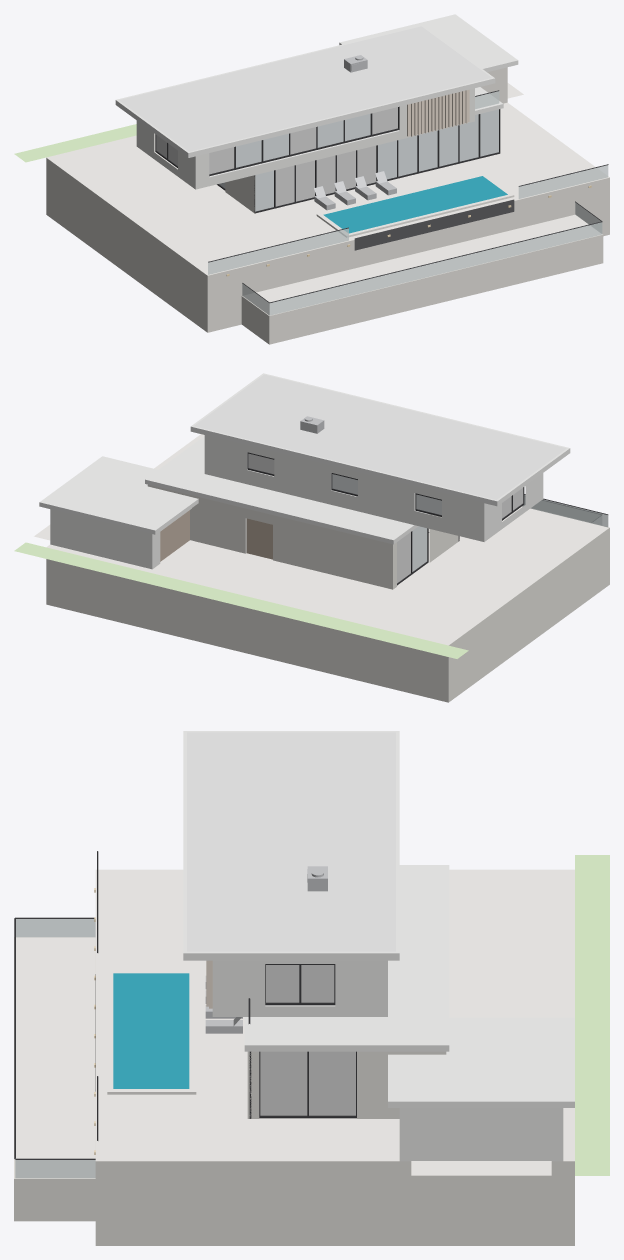
Rendered from mansion_w130b.glb.
3 renders of one model, top to bottom at view 1: azimuth 30°, elevation 25°; view 2: azimuth 150°, elevation 25°; view 3: azimuth 270°, elevation 25°, orthographic. The views are drawn at different scales.
Parts seen in each view (by area): view 1: mansion_w130b_Site, mansion_w130b_Walls2, mansion_w130b_Roof, mansion_w130b_Clear, mansion_w130b_Glass, mansion_w130b_Trim, mansion_w130b_WindowsLit, mansion_w130b_Water, mansion_w130b_Walls, mansion_w130b_Frames, mansion_w130b_Walls3, mansion_w130b_Accent (+2 smaller); view 2: mansion_w130b_Walls2, mansion_w130b_Site, mansion_w130b_Roof, mansion_w130b_Trim, mansion_w130b_Walls, mansion_w130b_Lawn, mansion_w130b_Doors, mansion_w130b_Glass, mansion_w130b_WindowsLit, mansion_w130b_Clear, mansion_w130b_Frames; view 3: mansion_w130b_Site, mansion_w130b_Walls2, mansion_w130b_Roof, mansion_w130b_Trim, mansion_w130b_Walls, mansion_w130b_Lawn, mansion_w130b_Water, mansion_w130b_WindowsLit, mansion_w130b_Clear, mansion_w130b_Frames, mansion_w130b_Details.
Boxes of the visible parts, x1=… form: mansion_w130b_Site: x1=46, y1=83, x2=609, y2=314; mansion_w130b_Walls2: x1=46, y1=67, x2=609, y2=344; mansion_w130b_Roof: x1=119, y1=26, x2=491, y2=151; mansion_w130b_Clear: x1=208, y1=91, x2=608, y2=315; mansion_w130b_Glass: x1=219, y1=109, x2=498, y2=211; mansion_w130b_Trim: x1=115, y1=14, x2=518, y2=177; mansion_w130b_WindowsLit: x1=156, y1=107, x2=397, y2=206; mansion_w130b_Water: x1=323, y1=176, x2=507, y2=233; mansion_w130b_Walls: x1=136, y1=88, x2=474, y2=189; mansion_w130b_Frames: x1=155, y1=90, x2=608, y2=302; mansion_w130b_Walls3: x1=407, y1=89, x2=469, y2=136; mansion_w130b_Accent: x1=354, y1=199, x2=514, y2=250; mansion_w130b_Walls2: x1=46, y1=484, x2=609, y2=702; mansion_w130b_Site: x1=34, y1=434, x2=609, y2=645; mansion_w130b_Roof: x1=194, y1=374, x2=566, y2=499; mansion_w130b_Trim: x1=39, y1=373, x2=570, y2=553; mansion_w130b_Walls: x1=50, y1=435, x2=543, y2=569; mansion_w130b_Lawn: x1=14, y1=542, x2=468, y2=658; mansion_w130b_Doors: x1=160, y1=510, x2=272, y2=561; mansion_w130b_Glass: x1=332, y1=474, x2=441, y2=571; mansion_w130b_WindowsLit: x1=248, y1=453, x2=523, y2=583; mansion_w130b_Clear: x1=522, y1=495, x2=608, y2=527; mansion_w130b_Frames: x1=247, y1=452, x2=608, y2=585; mansion_w130b_Site: x1=15, y1=869, x2=574, y2=1177; mansion_w130b_Walls2: x1=14, y1=937, x2=574, y2=1245; mansion_w130b_Roof: x1=187, y1=732, x2=395, y2=951; mansion_w130b_Trim: x1=183, y1=731, x2=574, y2=1107; mansion_w130b_Walls: x1=212, y1=960, x2=563, y2=1161; mansion_w130b_Lawn: x1=575, y1=855, x2=609, y2=1175; mansion_w130b_Water: x1=113, y1=973, x2=189, y2=1088; mansion_w130b_WindowsLit: x1=260, y1=965, x2=355, y2=1115; mansion_w130b_Clear: x1=15, y1=919, x2=95, y2=1178; mansion_w130b_Frames: x1=14, y1=851, x2=356, y2=1159; mansion_w130b_Details: x1=205, y1=866, x2=327, y2=1033.
Bounding box in the file's own units: 130 × 46.4 × 102.
